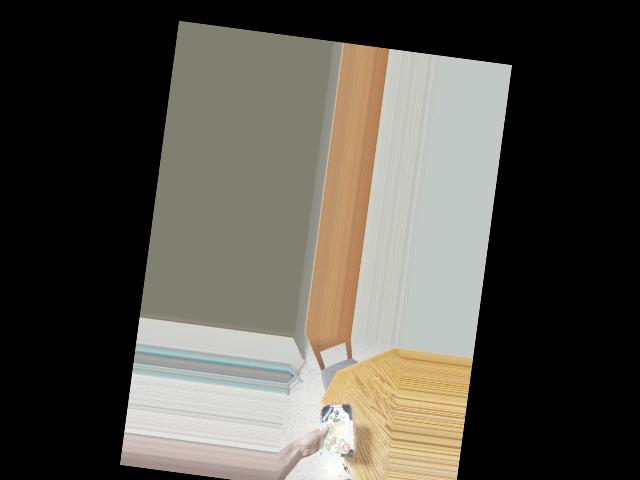cheese: (315, 399, 358, 452)
